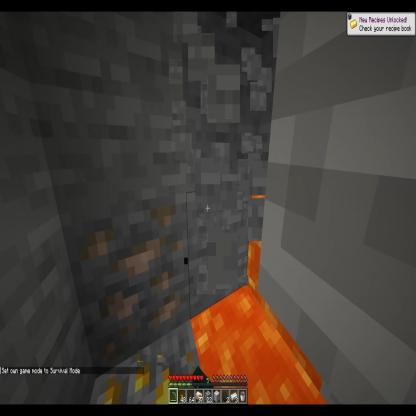gold ore: (88, 321, 227, 416)
iron ore: (60, 192, 192, 369)
